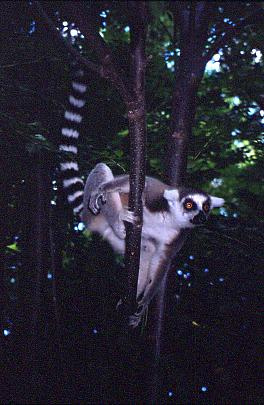cat: (58, 58, 226, 335)
